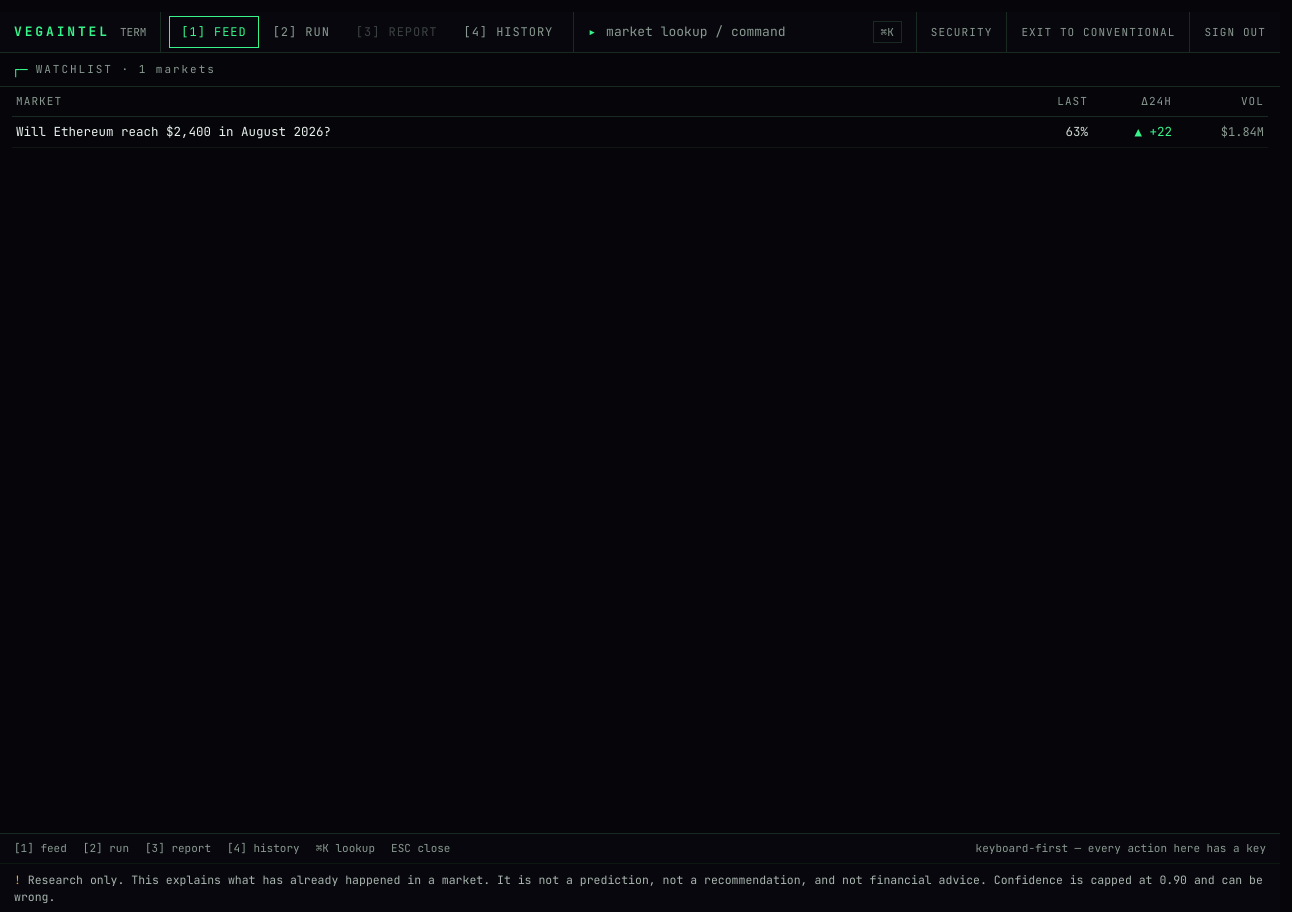
TerminalPage › report screen never shows a modelled probability or an edge stat
Click the text "Will Ethereum reach $2,400 in August 2026?" at (174, 131), box [16, 122, 331, 140]
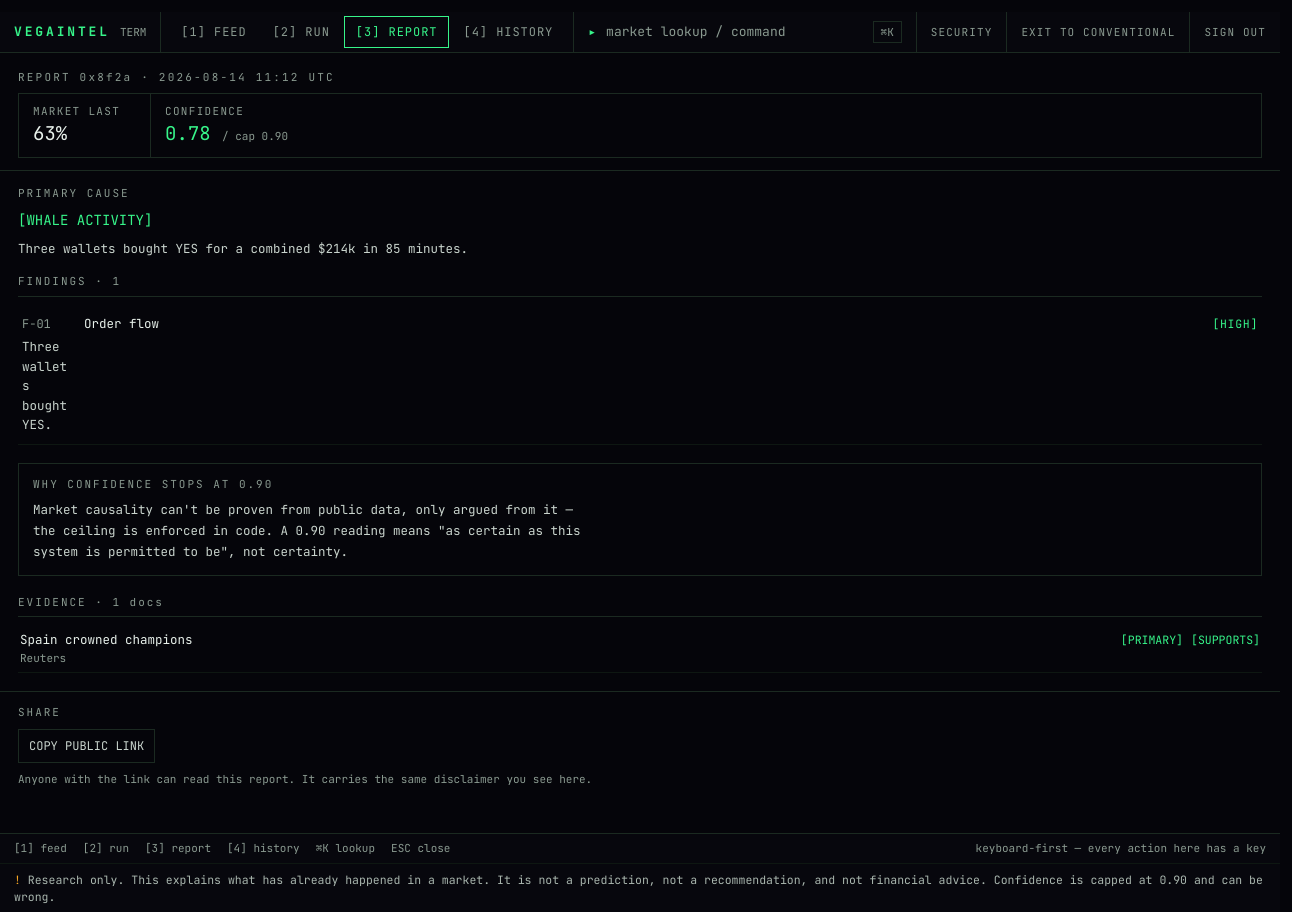
Expected: the text "PRIMARY CAUSE" is shown, [18, 185, 130, 202]
Expected: the text "[PRIMARY]" is shown, [1121, 631, 1183, 648]
Expected: the text "[SUPPORTS]" is shown, [1191, 631, 1260, 648]
